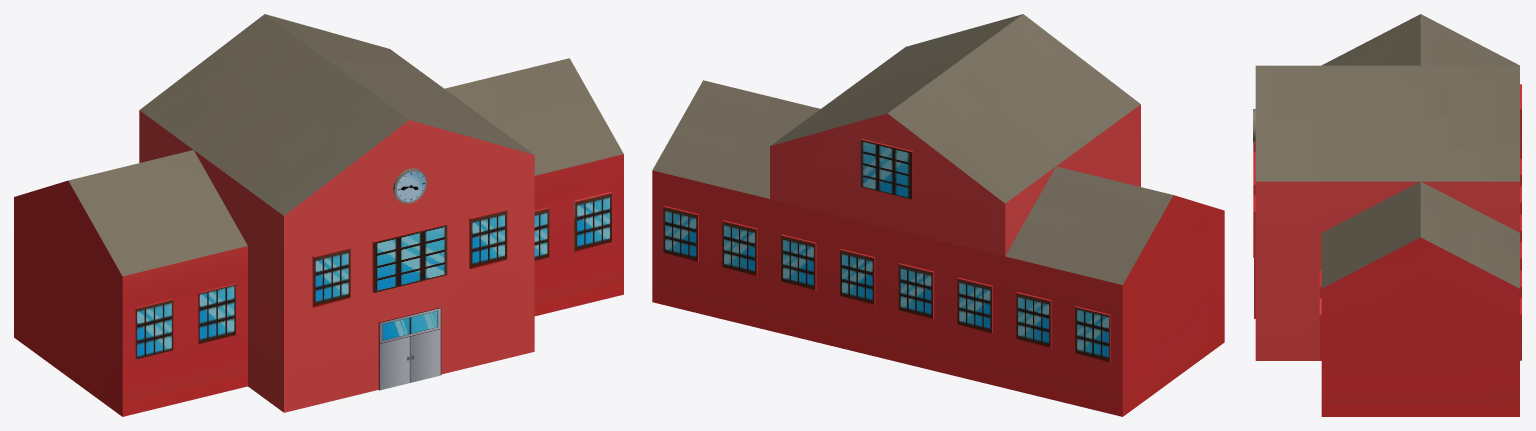
File: school.fbx
3 views of the same model, side by side, from view 1: azimuth 30°, elevation 25°; view 2: azimuth 150°, elevation 25°; view 3: azimuth 270°, elevation 25° (orthographic). The views are drawn at different scales.
Parts seen in each view (by area): view 1: Cube.017; view 2: Cube.017; view 3: Cube.017.
Boxes of the visible parts, x1,y1,x2,y2 form: Cube.017: (14, 14, 623, 416); Cube.017: (652, 14, 1224, 416); Cube.017: (1253, 14, 1521, 416).
Size of the model in its own units: 1600 by 800 by 814.
2 materials, 2 textured.
